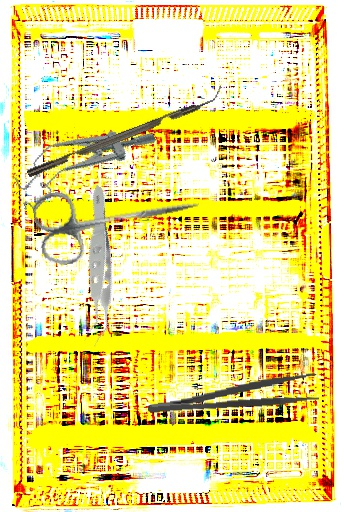Chopper: (22, 84, 228, 178)
Dressing Forceps: (145, 371, 320, 418)
Iris Scissors: (30, 166, 206, 269)
Speculum: (4, 104, 162, 214)
Tissue Forceps: (22, 184, 169, 349)
